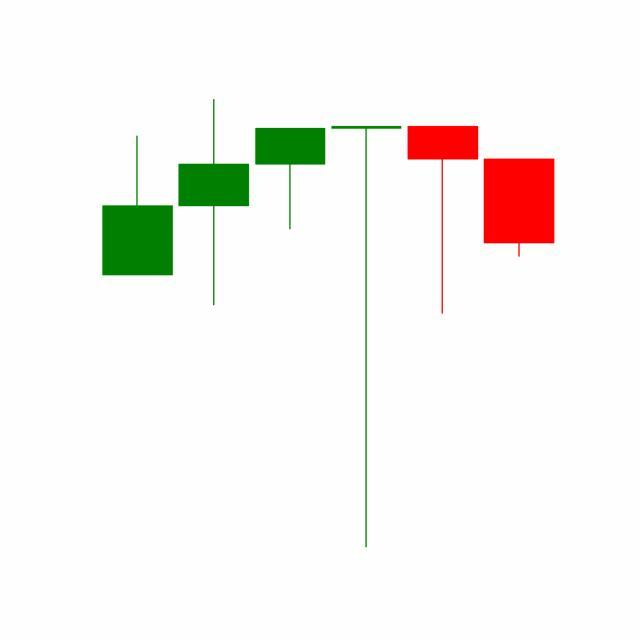Hanging Man: (404, 124, 482, 316)
